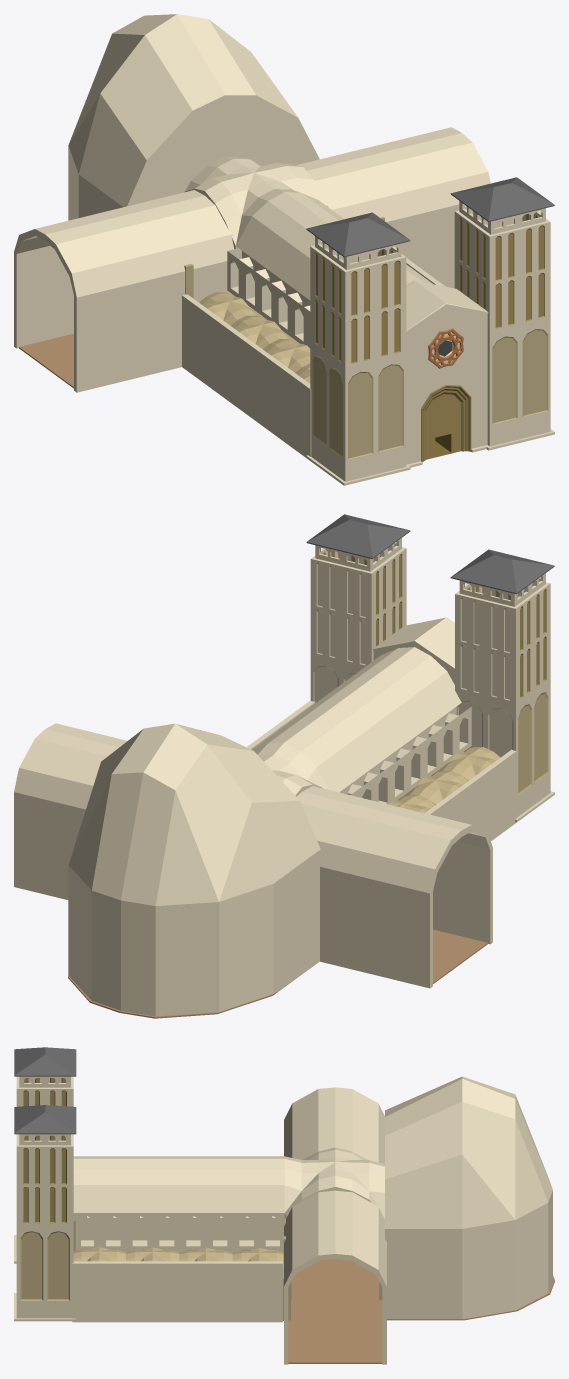
Rendered from Arquitectura_3.fbx.
3 views of the same model, one above another, from view 1: azimuth 30°, elevation 25°; view 2: azimuth 150°, elevation 25°; view 3: azimuth 270°, elevation 25° (orthographic). The views are drawn at different scales.
Visible parts, largest first — view 1: Box059; view 2: Box059; view 3: Box059.
Boxes of the visible parts, left/top/right/bottom form: Box059: left=14, top=14, right=554, bottom=485; Box059: left=14, top=514, right=554, bottom=1018; Box059: left=14, top=1047, right=554, bottom=1364.
Bounding box in the file's own units: 4745 × 2699 × 6513.
